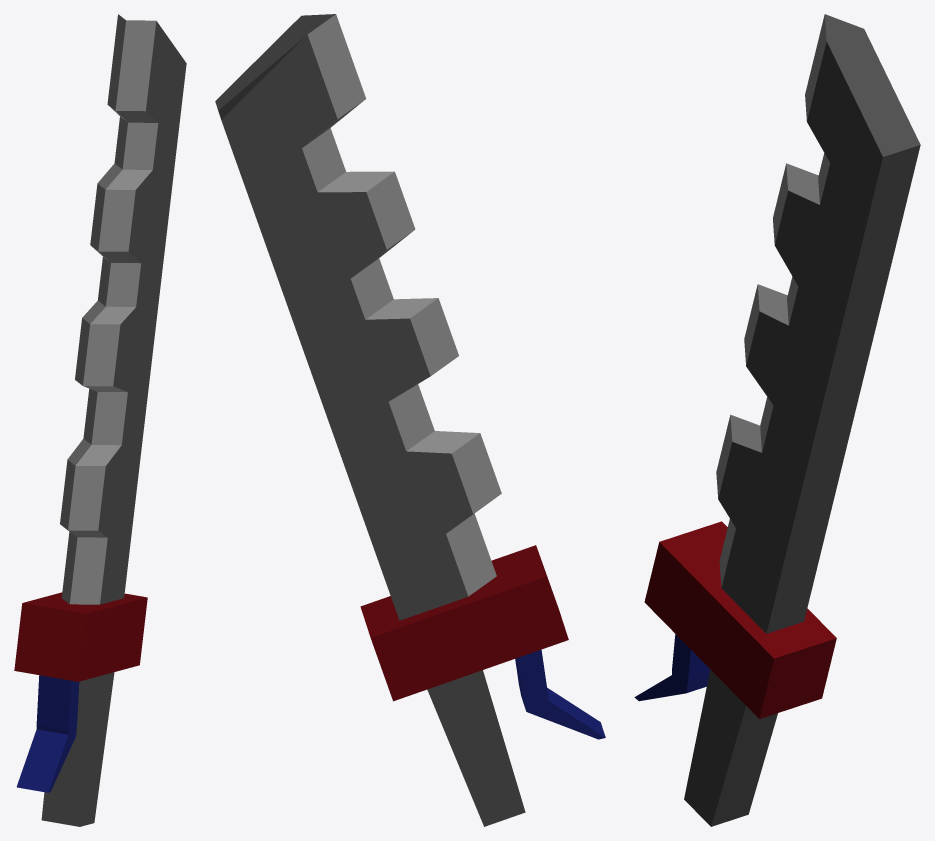
File: ItemBlade.fbx
3 renders of one model, left to right at view 1: azimuth 30°, elevation 25°; view 2: azimuth 150°, elevation 25°; view 3: azimuth 270°, elevation 25°, orthographic. The views are drawn at different scales.
Visible parts, largest first — view 1: 立方体; view 2: 立方体; view 3: 立方体.
Part boxes in pixels (x1=…): 立方体: x1=14, y1=14, x2=186, y2=826; 立方体: x1=215, y1=14, x2=605, y2=826; 立方体: x1=634, y1=14, x2=920, y2=826.
Size of the model in its own units: 886 by 2387 by 722.
